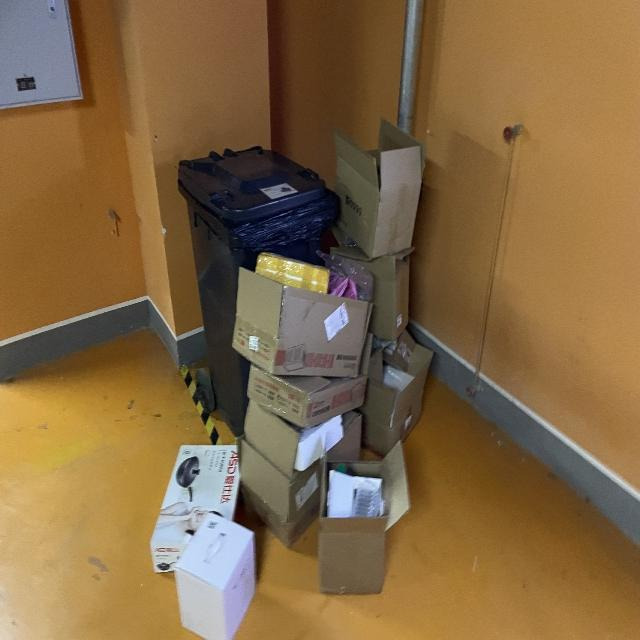garbage: (150, 116, 434, 639)
garbage_bin: (175, 145, 338, 435)
